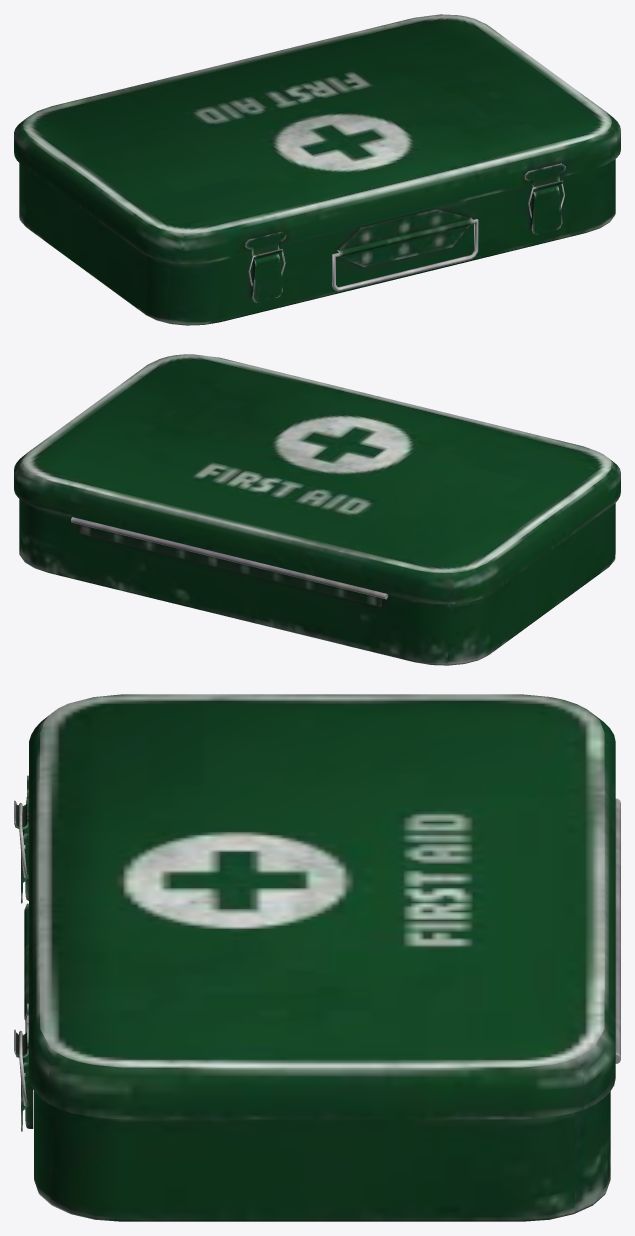
The model's file is medical_box_lod1.glb.
3 renders of one model, top to bottom at view 1: azimuth 30°, elevation 25°; view 2: azimuth 150°, elevation 25°; view 3: azimuth 270°, elevation 25°, orthographic. The views are drawn at different scales.
Visible parts, largest first — view 1: medical_box_latch; view 2: medical_box_latch; view 3: medical_box_latch.
Boxes of the visible parts, x1,y1,x2,y2 form: medical_box_latch: [14, 14, 620, 325]; medical_box_latch: [14, 354, 620, 665]; medical_box_latch: [14, 694, 620, 1221].
Size of the model in its own units: 0.5255 by 0.0975 by 0.3501.
1 material, 1 textured.
